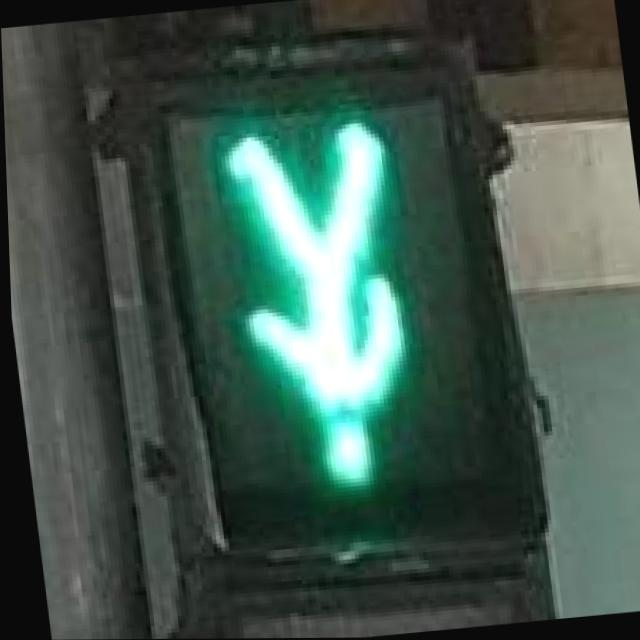green_light: (157, 94, 494, 547)
